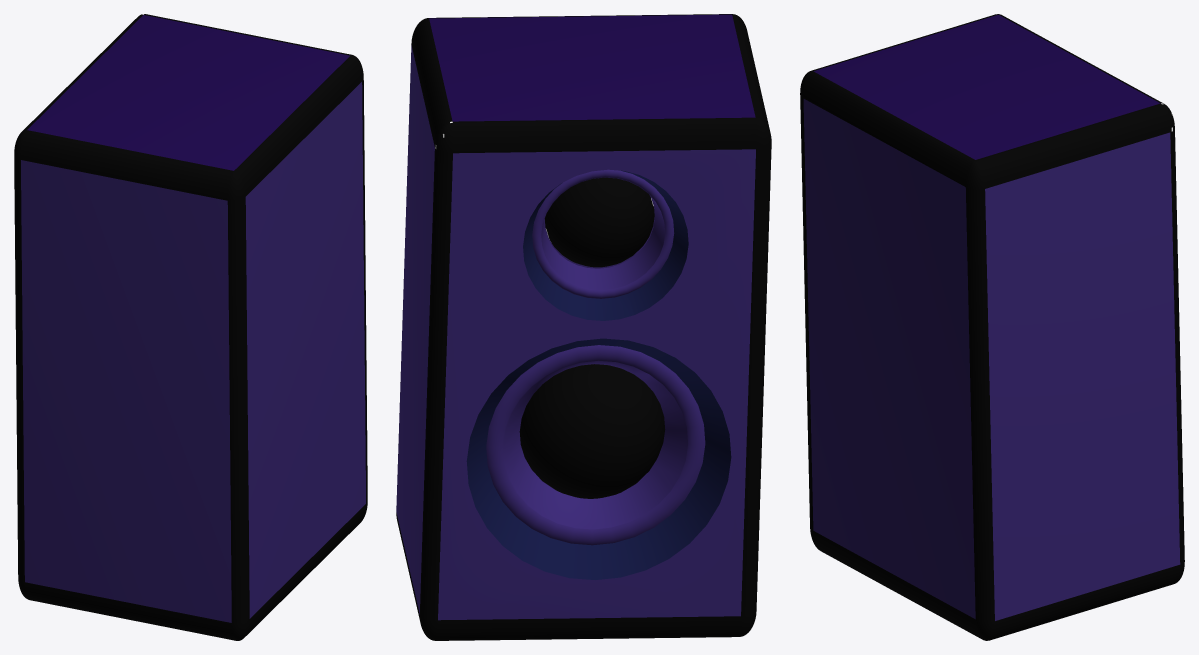
Rendered from SpeakerGJ.fbx.
3 views of the same model, side by side, from view 1: azimuth 30°, elevation 25°; view 2: azimuth 150°, elevation 25°; view 3: azimuth 270°, elevation 25° (orthographic). The views are drawn at different scales.
Parts seen in each view (by area): view 1: Tilemash.005; view 2: Tilemash.005; view 3: Tilemash.005.
Boxes of the visible parts, bbox=[...] form: Tilemash.005: bbox=[14, 14, 367, 640]; Tilemash.005: bbox=[396, 14, 771, 640]; Tilemash.005: bbox=[800, 14, 1184, 640].
Size of the model in its own units: 316 by 423 by 305.
